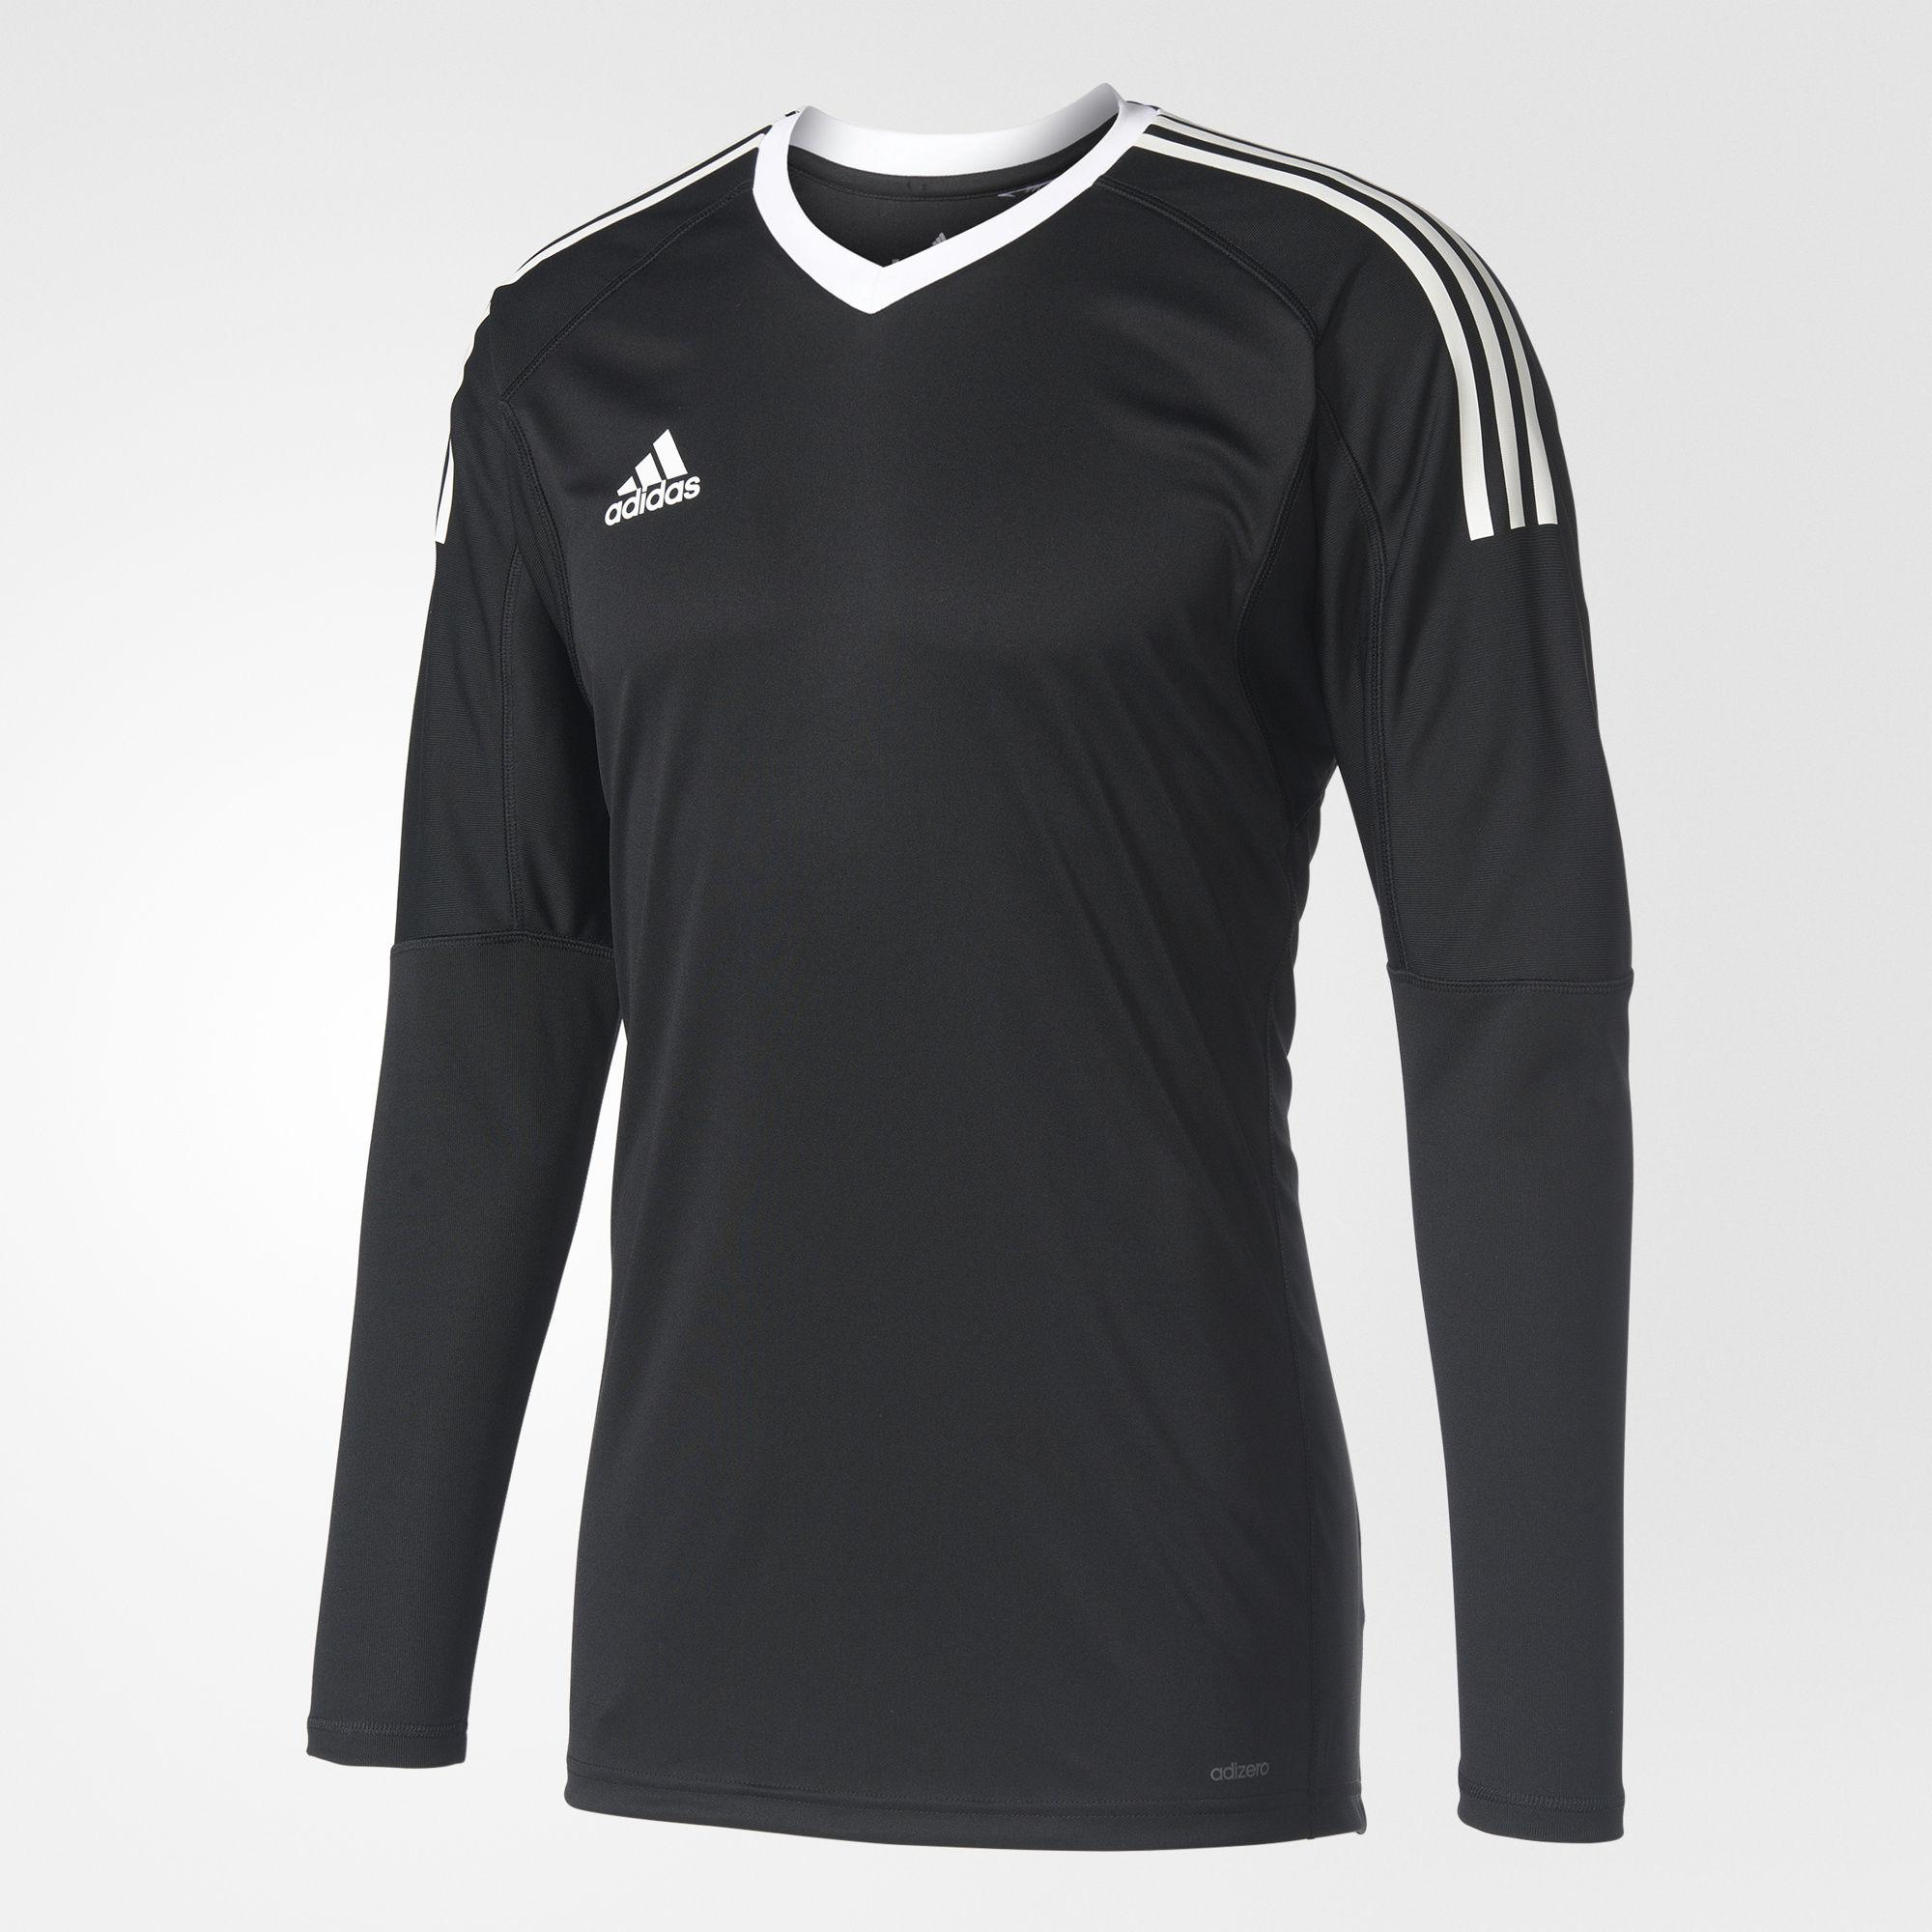teeshirt: (196, 81, 1679, 1932)
